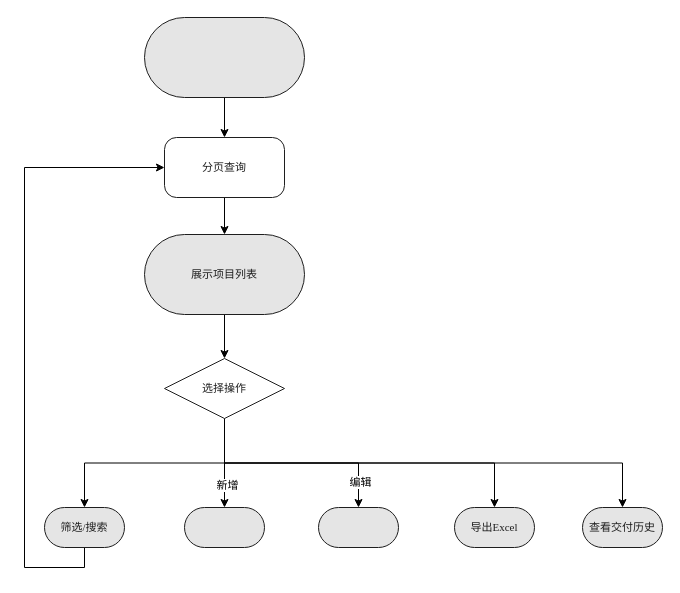
Some shapes in this 680 by 593 pixel diagram are drawn without their labels. Here are the shapes that lost their labels. From the top down, the centre of each, then its label:
(224,57): 进入项目列表页 (项目管理)
(224,527): 新增项目
(358,527): 编辑项目
